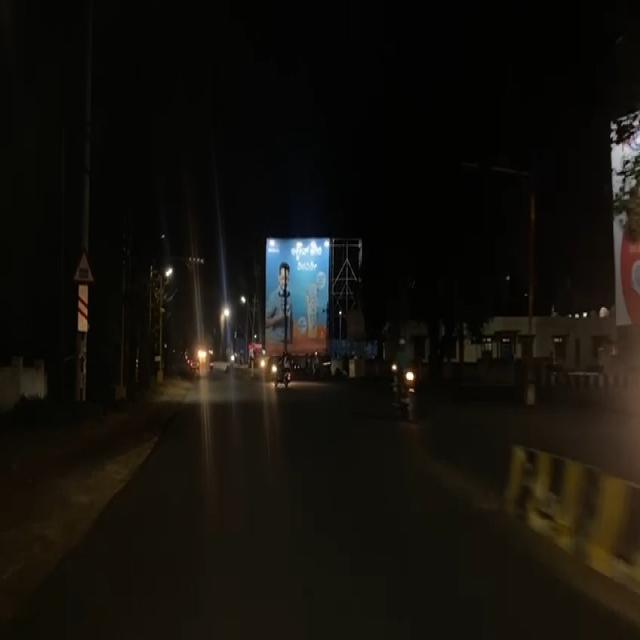bien_cam: (70, 248, 96, 286)
